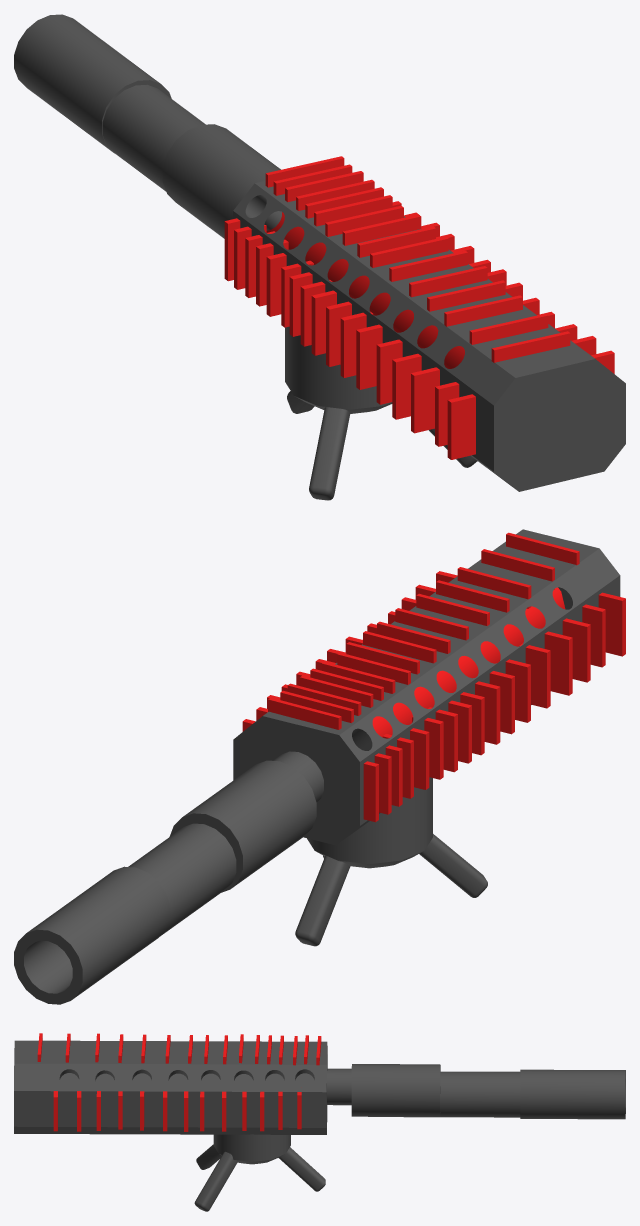
The model's file is Eagle.FBX.
3 renders of one model, top to bottom at view 1: azimuth 30°, elevation 25°; view 2: azimuth 150°, elevation 25°; view 3: azimuth 270°, elevation 25°, orthographic. The views are drawn at different scales.
Visible parts, largest first — view 1: Eagle; view 2: Eagle; view 3: Eagle.
Part boxes in pixels (box(x1,y1,x2,y2)): Eagle: box(14, 14, 625, 500); Eagle: box(14, 529, 625, 1004); Eagle: box(14, 1033, 625, 1211).
Bounding box in the file's own units: 30.15 × 150 × 38.96.
